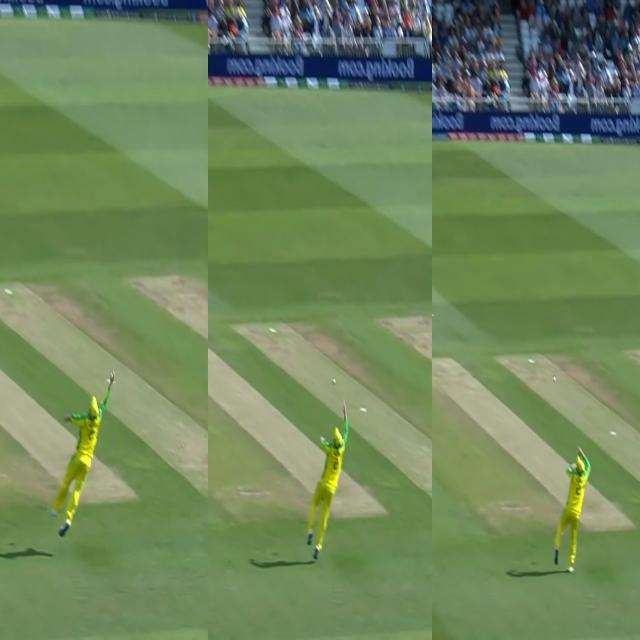ball: (104, 370, 118, 384), (327, 375, 339, 390), (548, 374, 560, 389)
